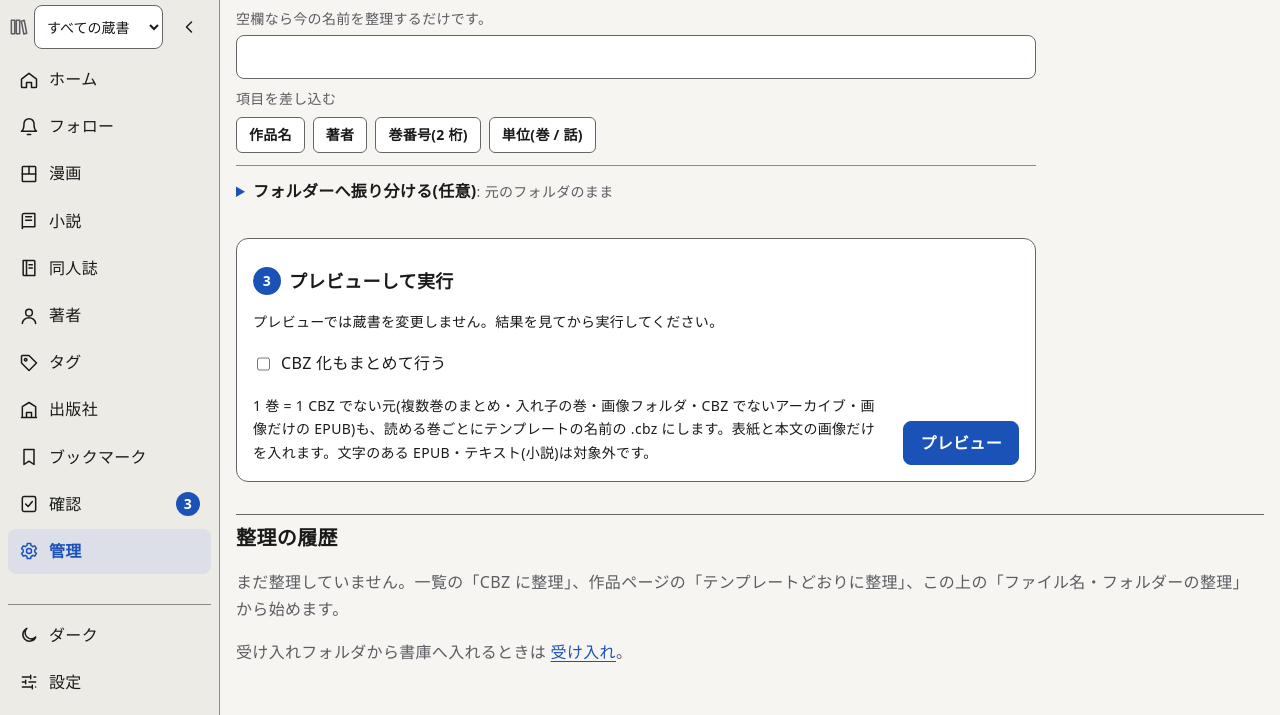
整理のタブ › 整理を実行・元に戻すとタスクセンターの履歴にも残る
(page scrolled)
What coordinates should you click on to do the following:
click the button "プレビュー"
I would click on:
 (961, 443)
Its box is [903,421,1019,465].
(page scrolled)
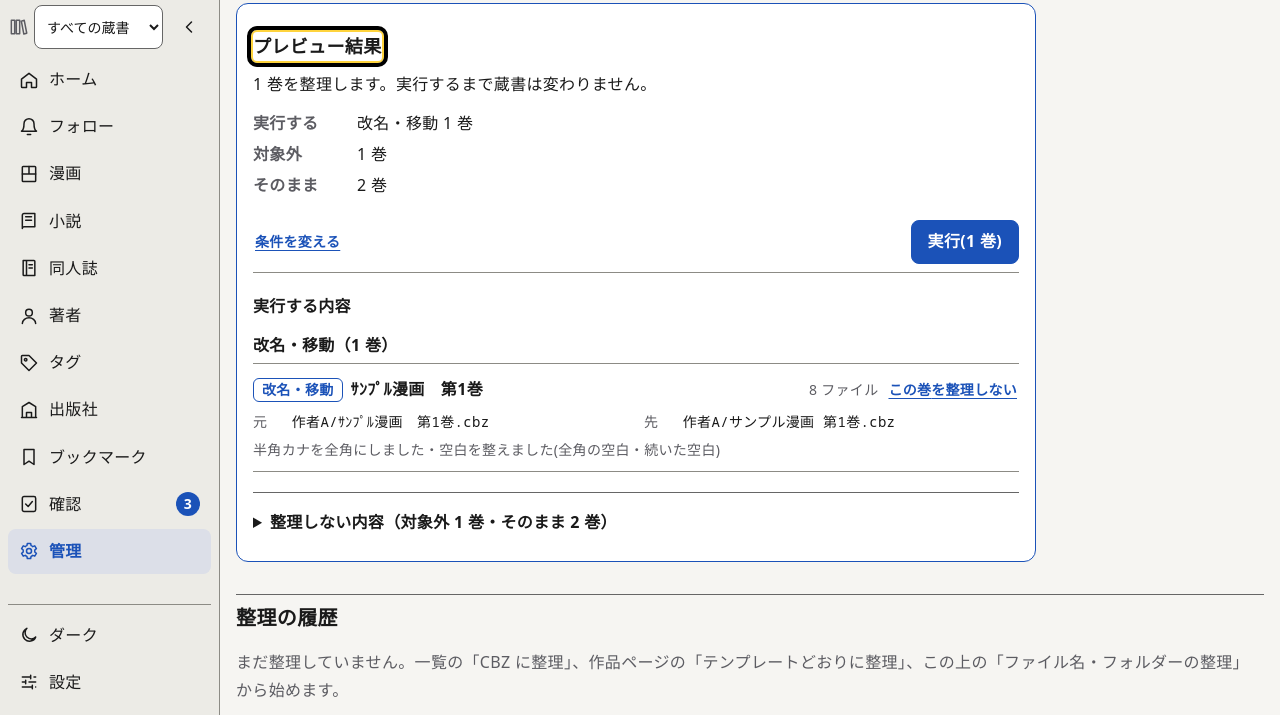
What coordinates should you click on to do the following:
click the button "実行(1 巻)"
I would click on:
 (965, 242)
Its box is [911,220,1019,264].
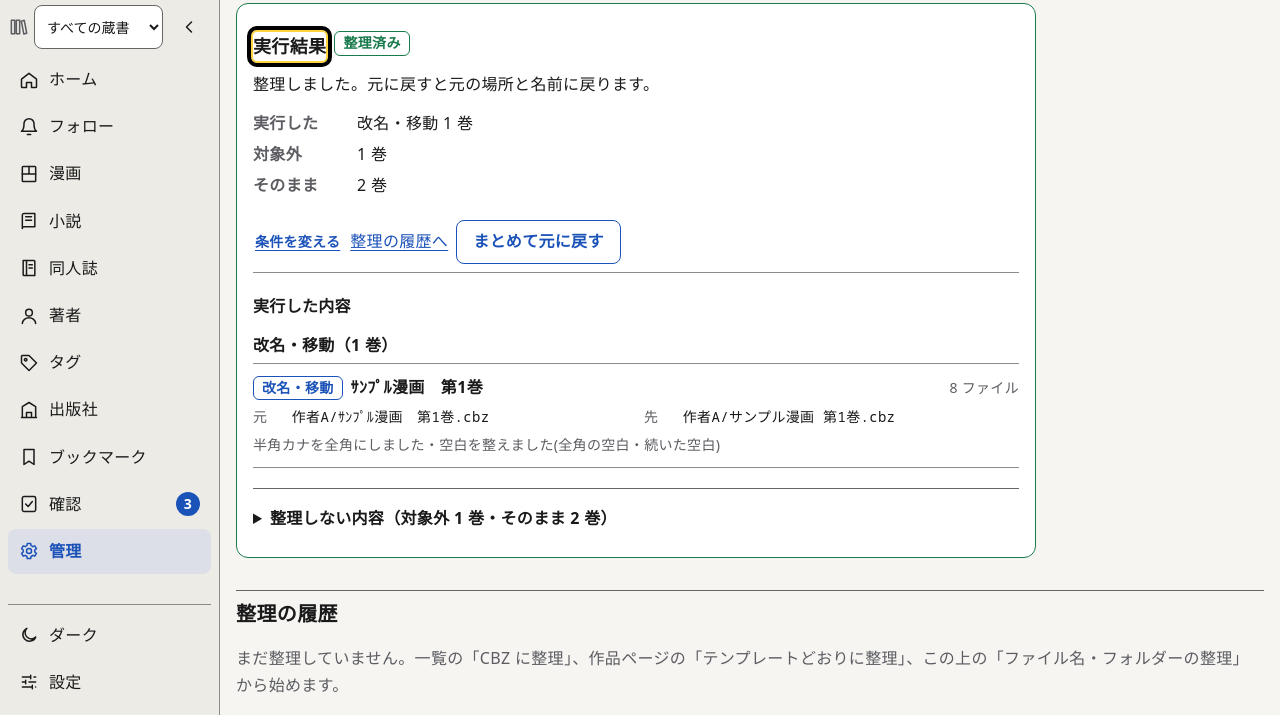
What coordinates should you click on to do the following:
click the button "まとめて元に戻す"
I would click on:
 (538, 242)
Its box is [456,220,621,264].
(page scrolled)
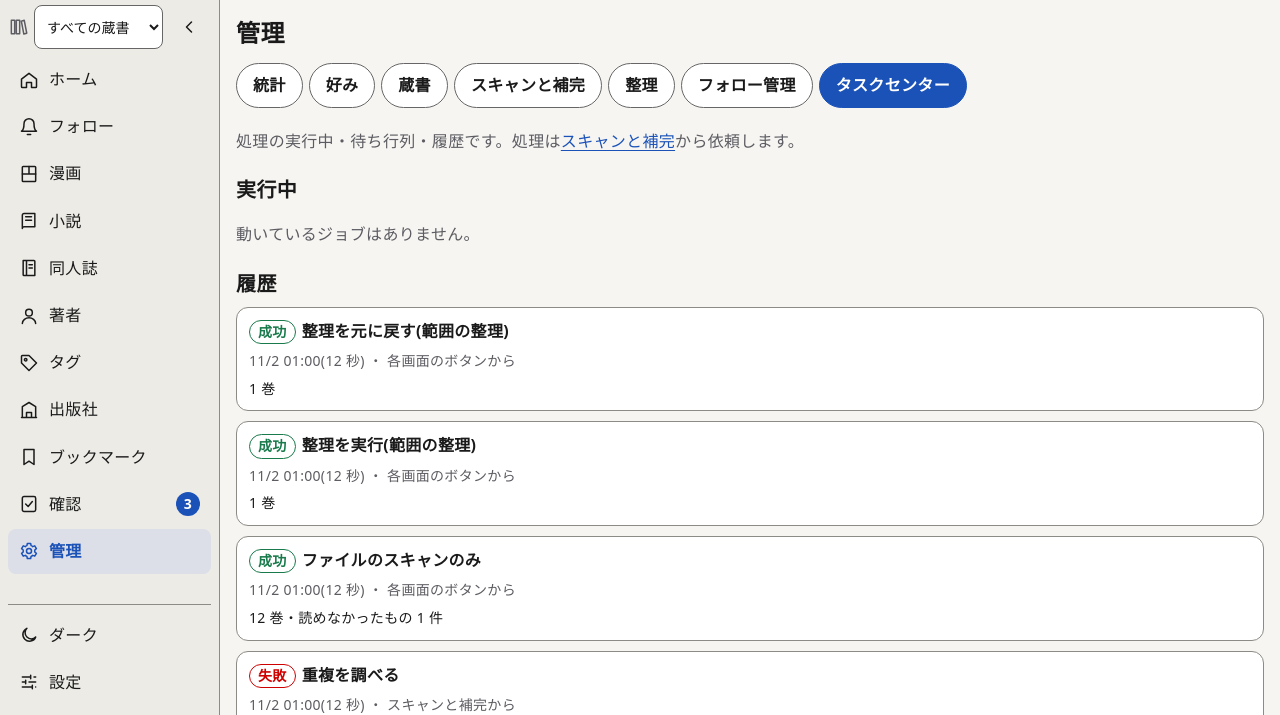
Now the text "整理を元に戻す(範囲の整理)" is shown, box [302,318,509,345]
Now the text "整理を実行(範囲の整理)" is shown, box [302,432,476,460]
